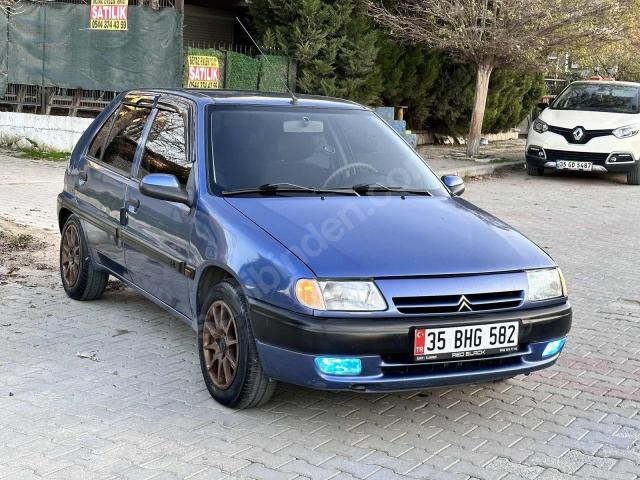plaka: (414, 322, 519, 359)
